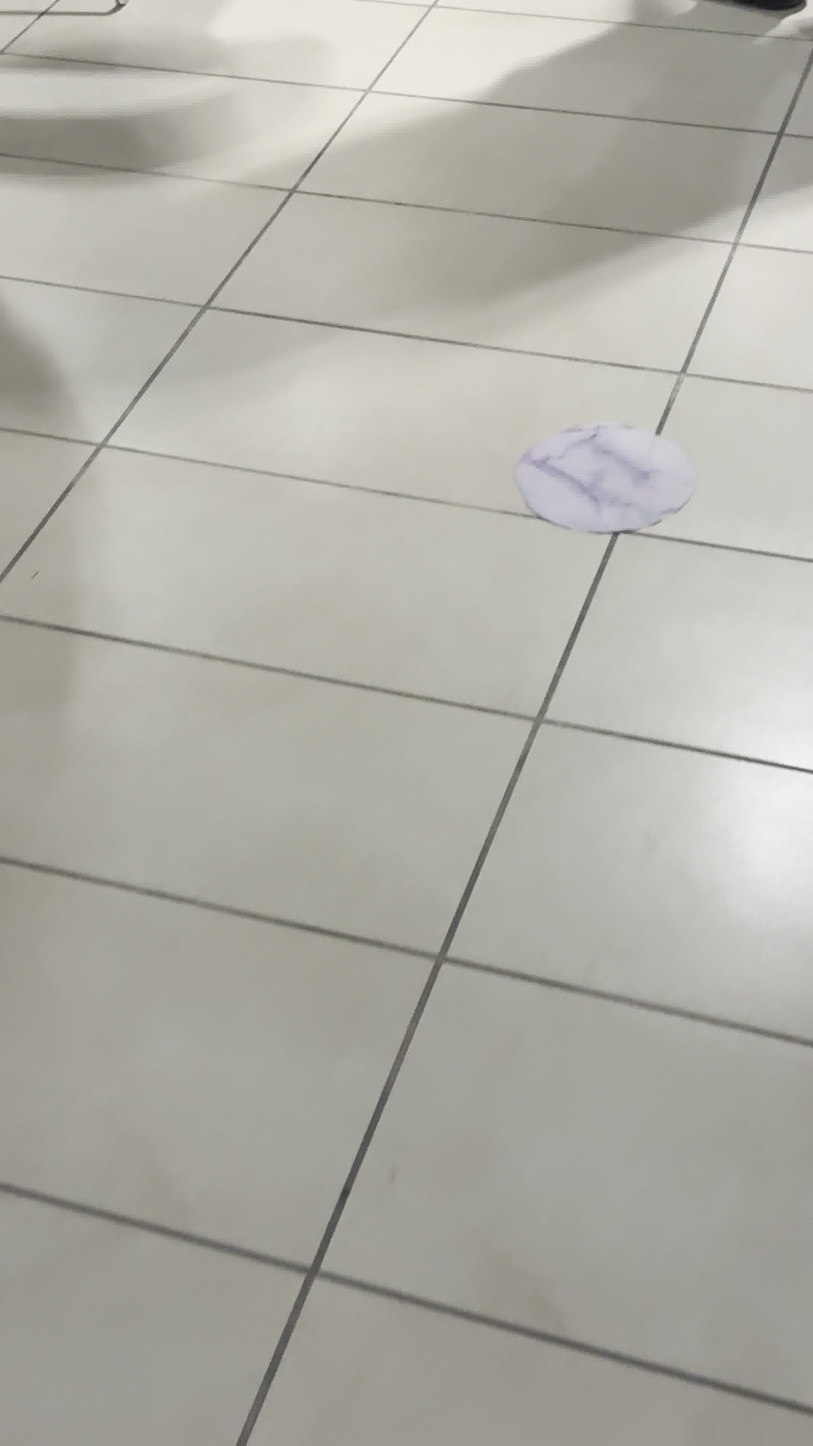Target: (518, 425, 696, 535)
